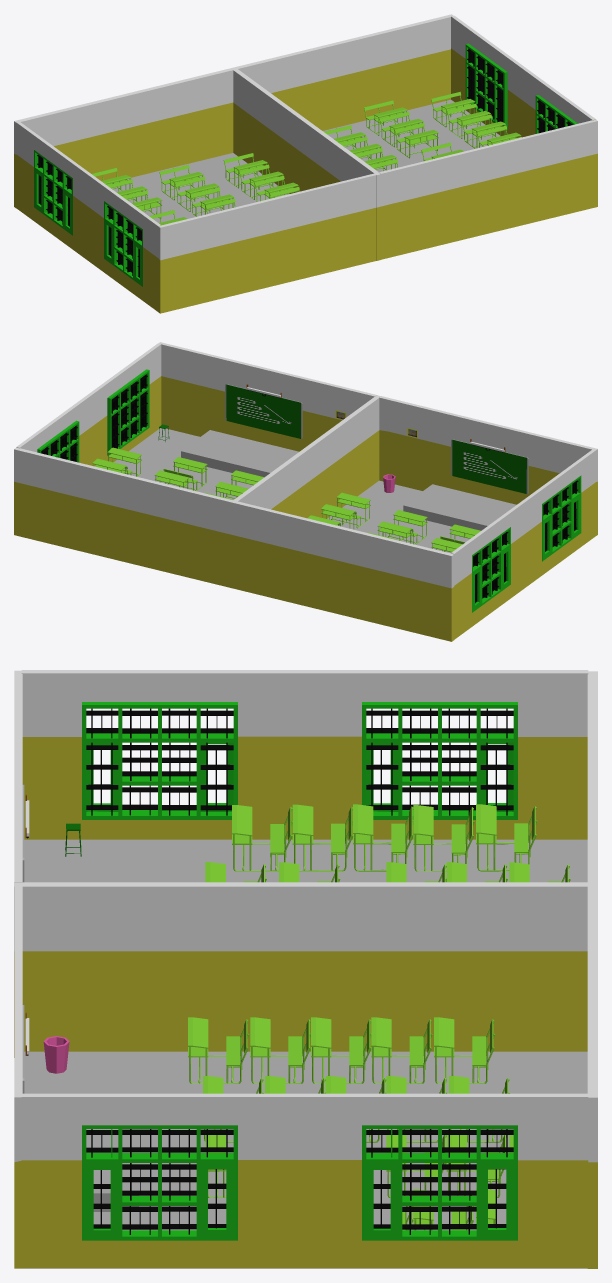
The model's file is ClassRoom.fbx.
The picture shows the model from 3 angles, top to bottom: view 1: azimuth 30°, elevation 25°; view 2: azimuth 150°, elevation 25°; view 3: azimuth 270°, elevation 25°; orthographic projection. The views are drawn at different scales.
Parts seen in each view (by area): view 1: Plane.001, Front.001, Front, Plane, Side.001, Side, Floor.001, Floor, Window, Window.001, Window.003, Window.002 (+13 smaller); view 2: Plane.001, Front.001, Front, Plane, Side.001, Side, Podium, Floor.001, Floor, Podium.001, Board.001, Board (+10 smaller); view 3: Plane, Side, Side.001, Floor, Floor.001, Window.003, Window.002, Window, Window.001, Plane.001, Front, Podium (+14 smaller).
Boxes of the visible parts, x1,y1,x2,y2 form: Plane.001: [14, 14, 452, 208]; Front.001: [158, 173, 376, 313]; Front: [379, 119, 597, 259]; Plane: [233, 69, 381, 260]; Side.001: [16, 121, 161, 311]; Side: [451, 15, 595, 137]; Floor.001: [111, 153, 289, 222]; Floor: [323, 100, 499, 172]; Window: [465, 43, 507, 130]; Window.001: [34, 150, 72, 235]; Window.003: [104, 201, 142, 286]; Window.002: [535, 95, 577, 133]; Plane.001: [14, 447, 454, 641]; Front.001: [379, 396, 597, 535]; Front: [159, 342, 376, 451]; Plane: [233, 395, 380, 518]; Side.001: [451, 449, 596, 639]; Side: [16, 343, 161, 465]; Podium: [181, 430, 298, 477]; Floor.001: [327, 480, 469, 553]; Floor: [113, 428, 252, 499]; Podium.001: [403, 484, 516, 530]; Board.001: [451, 439, 528, 494]; Board: [225, 384, 302, 438]; Plane: [14, 882, 587, 1057]; Side: [21, 1093, 588, 1268]; Side.001: [21, 670, 588, 839]; Floor: [23, 1051, 587, 1268]; Floor.001: [24, 839, 587, 882]; Window.003: [82, 702, 237, 819]; Window.002: [82, 1125, 237, 1240]; Window: [362, 1125, 517, 1240]; Window.001: [362, 702, 517, 819]; Plane.001: [587, 671, 597, 1268]; Front: [14, 885, 22, 1268]; Podium: [24, 1085, 138, 1211].
Bounding box in the file's own units: 3032 × 570 × 1753.
Materials: 14 (3 with a texture image).
